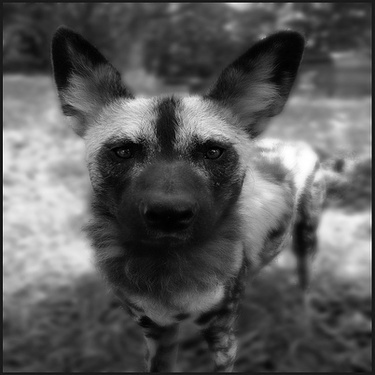dog: (37, 20, 356, 374)
